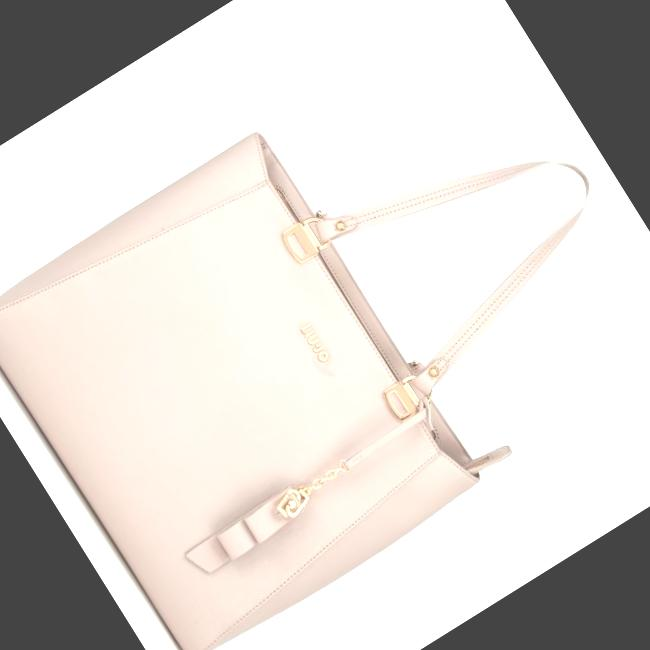LIU-JO: (272, 482, 314, 524)
